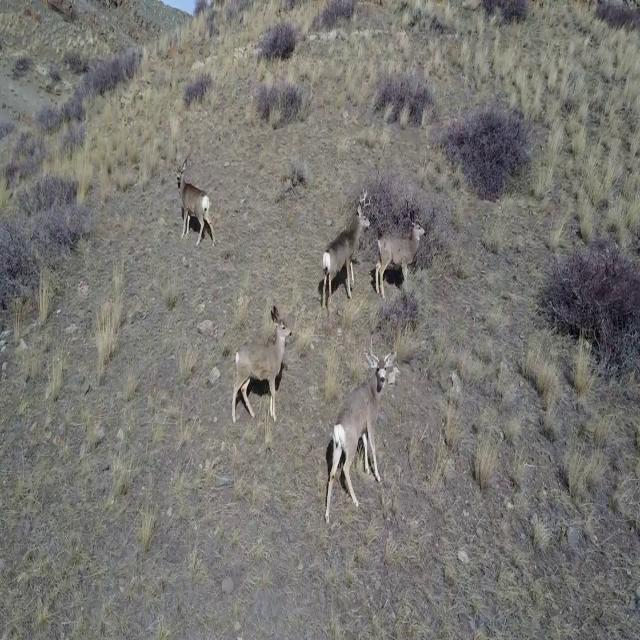Deer: (323, 340, 397, 526), (228, 305, 292, 424), (315, 186, 373, 312), (376, 208, 426, 300), (175, 154, 215, 246)
